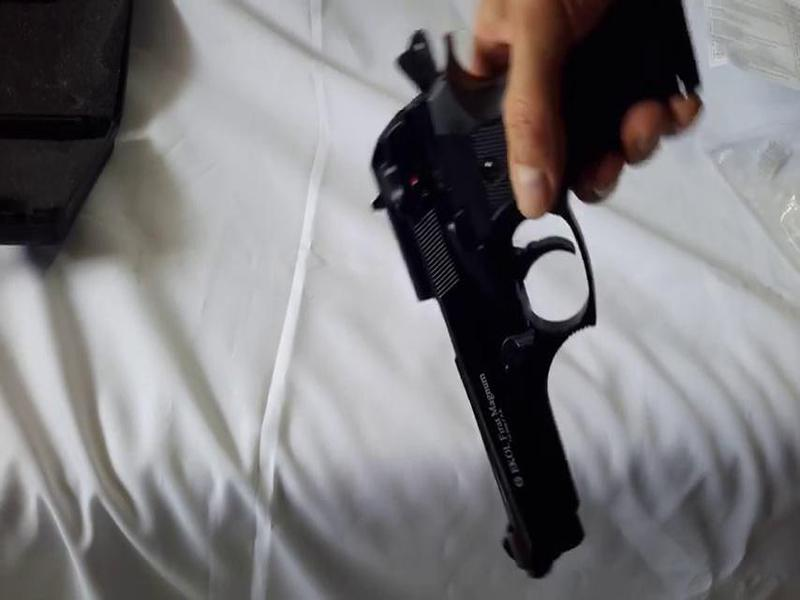Pistola: (355, 24, 648, 575)
